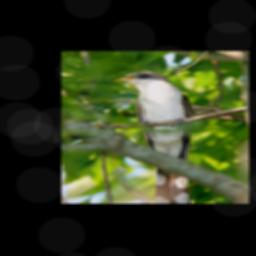Cuckoo: (107, 70, 195, 203)
